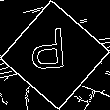P_S: (35, 28, 75, 82)
